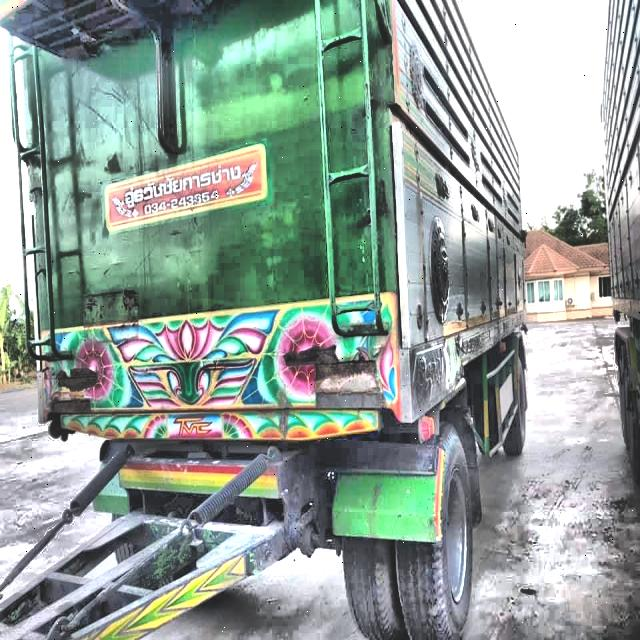trailer: (1, 0, 538, 640)
